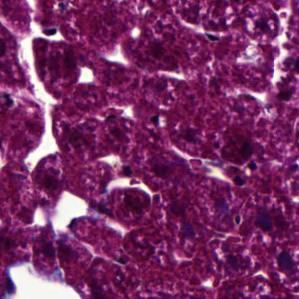inflammation: (98, 173, 157, 223), (239, 7, 287, 42)
